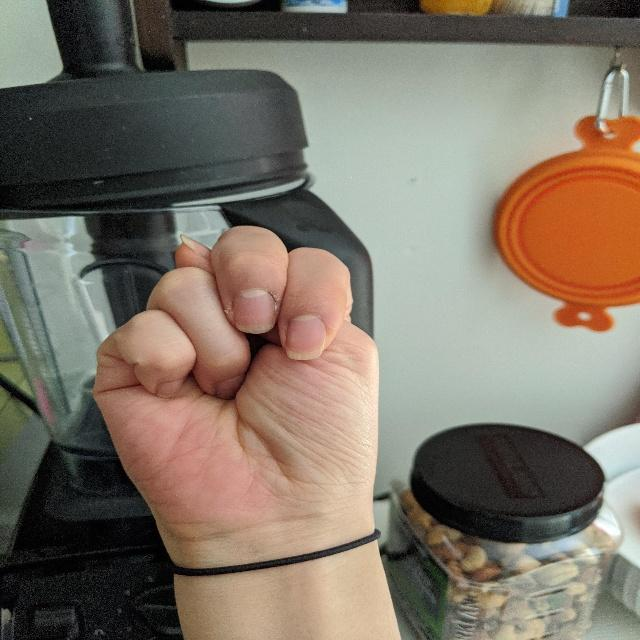N: (87, 222, 412, 547)
